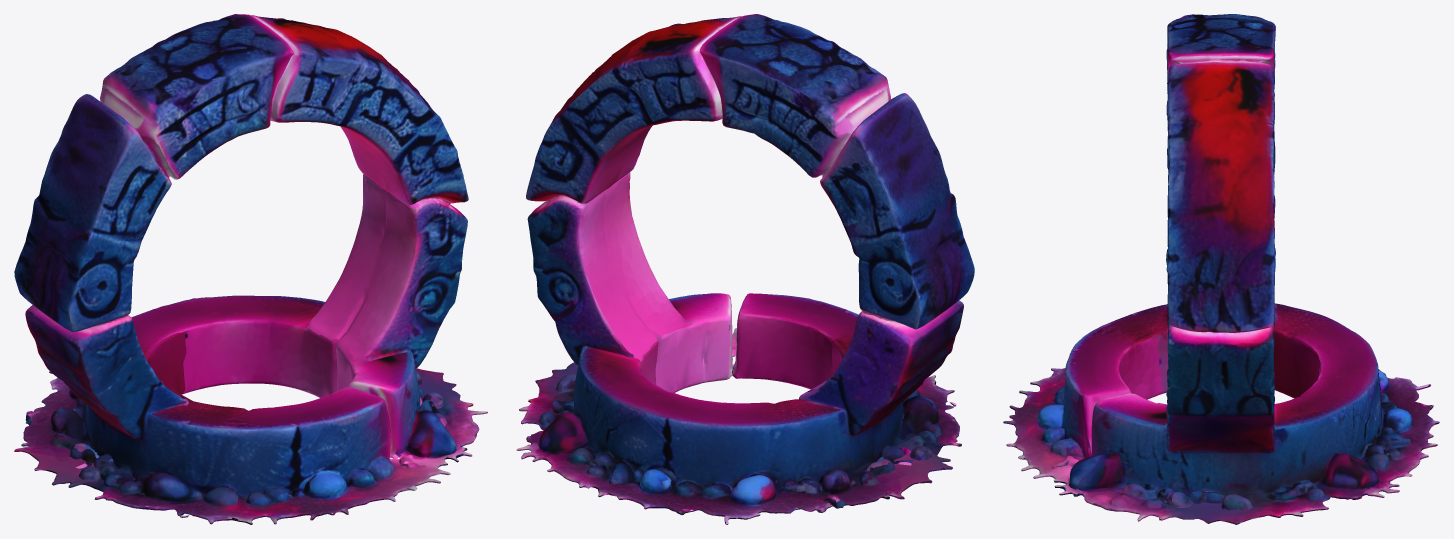
File: well-of-mimir-ring-generated-2026-05-17T18-01-18-242Z.high.glb
The picture shows the model from 3 angles, left to right: view 1: azimuth 30°, elevation 25°; view 2: azimuth 150°, elevation 25°; view 3: azimuth 270°, elevation 25°; orthographic projection. The views are drawn at different scales.
Parts seen in each view (by area): view 1: temp_mesh.ply; view 2: temp_mesh.ply; view 3: temp_mesh.ply.
Part boxes in pixels (x1,y1,x2,y2): temp_mesh.ply: [14, 14, 487, 524]; temp_mesh.ply: [516, 14, 974, 524]; temp_mesh.ply: [1003, 14, 1439, 524].
Size of the model in its own units: 1.97 by 1.83 by 1.87.
1 material, 1 textured.
